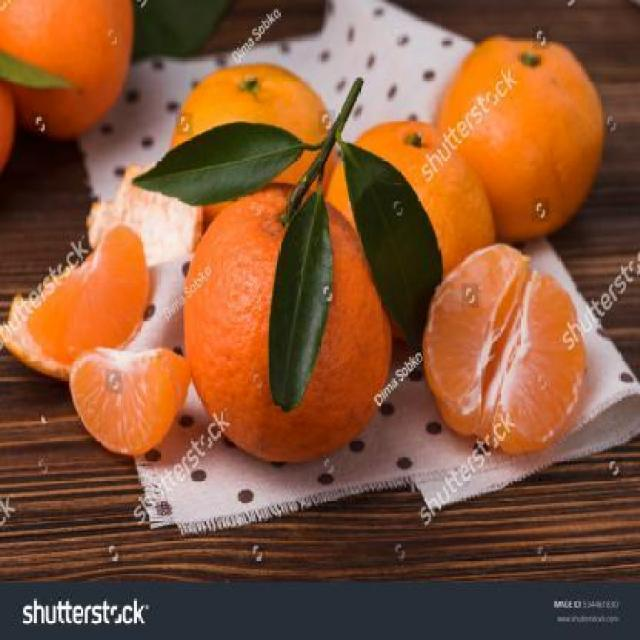Jeruk Sudah Matang: (187, 186, 393, 459), (163, 54, 342, 302), (312, 116, 494, 337), (436, 34, 609, 238), (0, 0, 131, 145)
